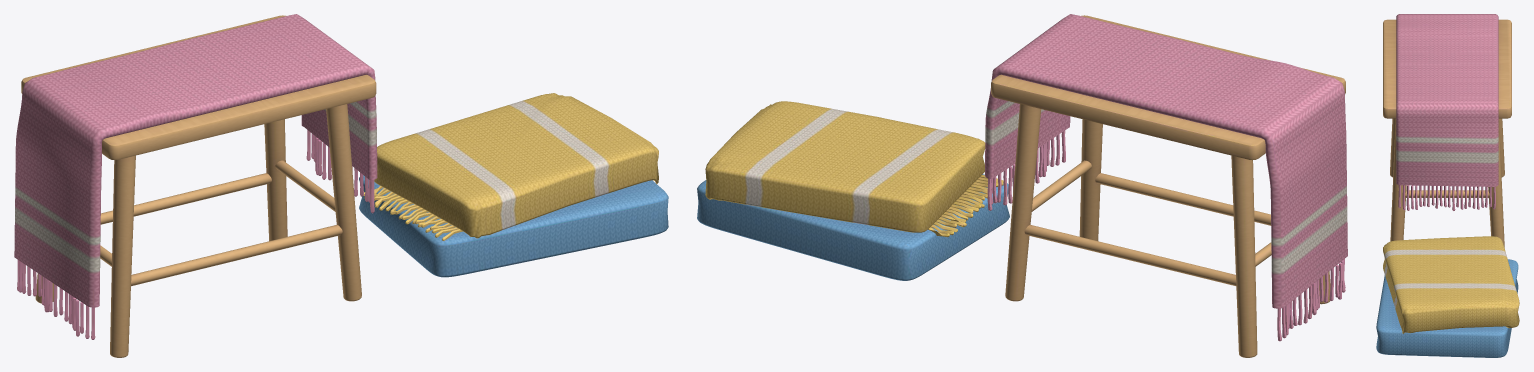
Rendered from blanket.glb.
The picture shows the model from 3 angles, left to right: view 1: azimuth 30°, elevation 25°; view 2: azimuth 150°, elevation 25°; view 3: azimuth 270°, elevation 25°; orthographic projection. The views are drawn at different scales.
Parts seen in each view (by area): view 1: blanket_body; view 2: blanket_body; view 3: blanket_body.
Part boxes in pixels (bbox=[...]): blanket_body: bbox=[14, 14, 668, 357]; blanket_body: bbox=[697, 14, 1347, 357]; blanket_body: bbox=[1376, 14, 1519, 357].
Bounding box in the file's own units: 1.22 × 0.4622 × 0.3773.
1 material, 1 textured.
